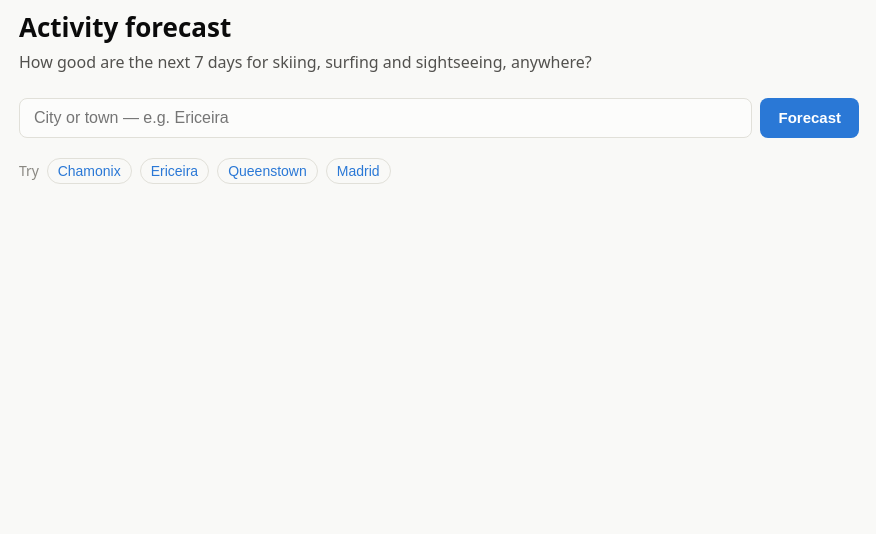
Test case: a landlocked place renders surfing as unavailable, not zero
Type "Madrid" into the field labelled "City or town" at [386, 118], box x1=19 y1=98 x2=752 y2=138
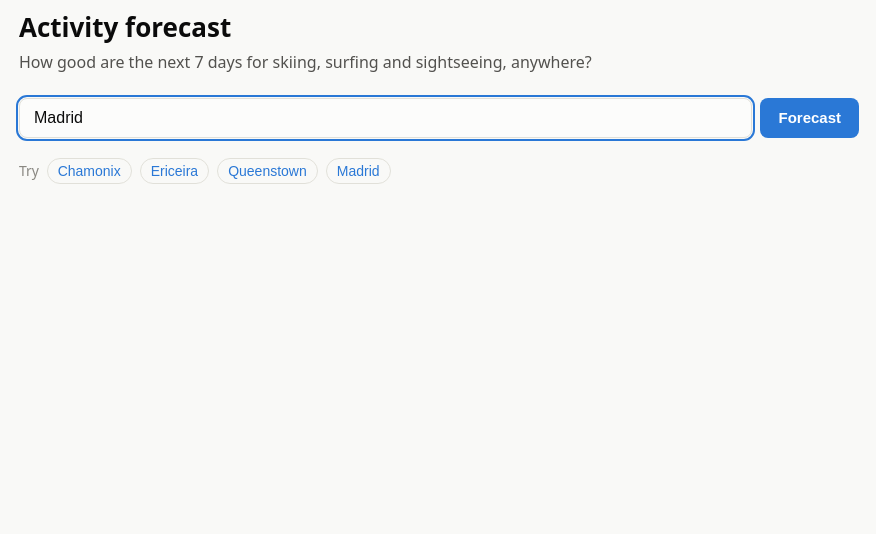
Click the button "Forecast" at [810, 118], box x1=760 y1=98 x2=859 y2=138
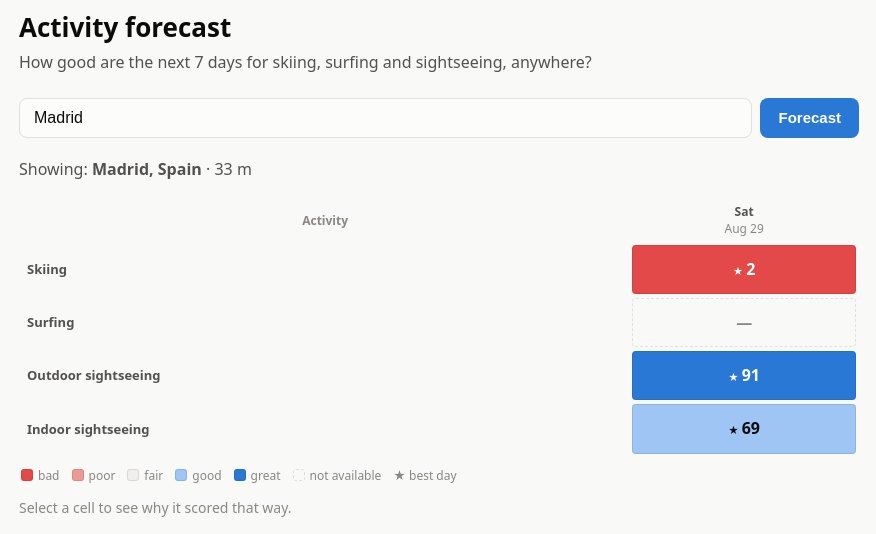
expect the text "Madrid, Spain" is shown: met, box x1=92 y1=158 x2=202 y2=180
expect the button named "Surfing, 2026-08-29: not available" is shown: met, box x1=632 y1=298 x2=856 y2=347
